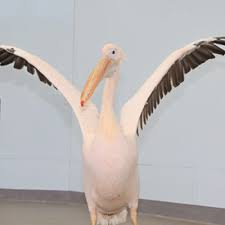pelican: (3, 37, 225, 220)
